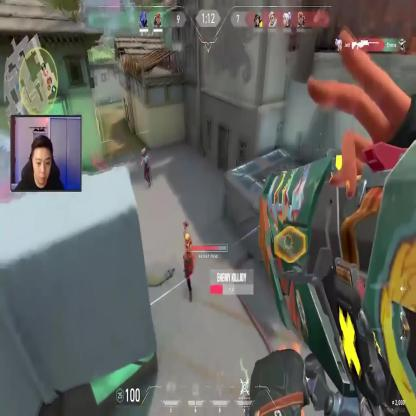enemy: (182, 228, 194, 302), (140, 146, 152, 186)
enemy_head: (184, 234, 192, 250), (141, 147, 146, 156)
